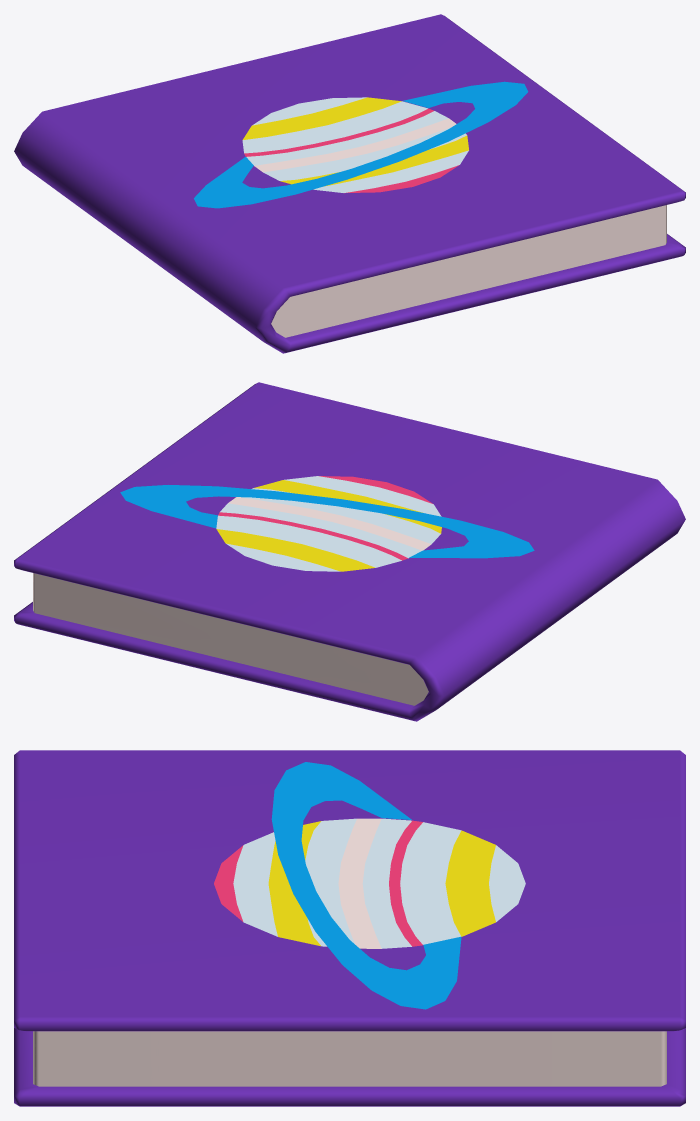
The model's file is Public_17_Book_3.glb.
The picture shows the model from 3 angles, top to bottom: view 1: azimuth 30°, elevation 25°; view 2: azimuth 150°, elevation 25°; view 3: azimuth 270°, elevation 25°; orthographic projection. The views are drawn at different scales.
Parts seen in each view (by area): view 1: Public_17_Book_3; view 2: Public_17_Book_3; view 3: Public_17_Book_3.
Boxes of the visible parts, x1=… form: Public_17_Book_3: x1=14, y1=14, x2=685, y2=353; Public_17_Book_3: x1=14, y1=382, x2=685, y2=721; Public_17_Book_3: x1=14, y1=750, x2=685, y2=1106.
Size of the model in its own units: 1.09 by 0.1608 by 1.08.
Materials: 1 (1 with a texture image).
